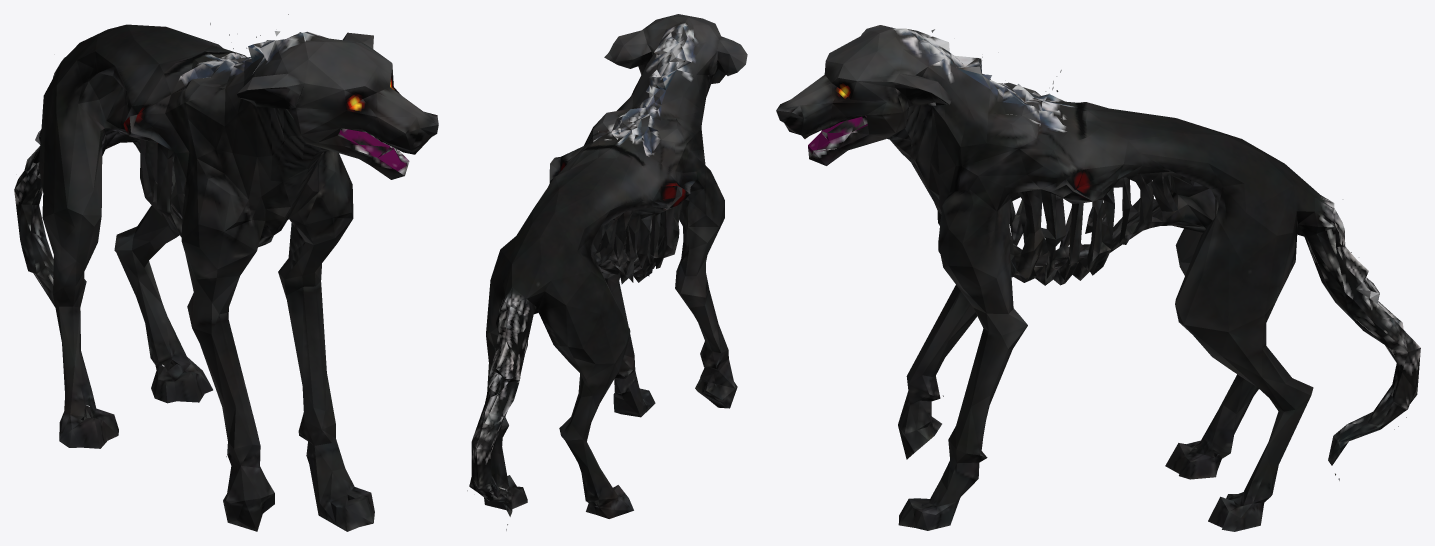
Rendered from hell_hound.gltf.
3 renders of one model, left to right at view 1: azimuth 30°, elevation 25°; view 2: azimuth 150°, elevation 25°; view 3: azimuth 270°, elevation 25°, orthographic. The views are drawn at different scales.
Parts seen in each view (by area): view 1: hell_hound; view 2: hell_hound; view 3: hell_hound.
Part boxes in pixels (x1=…): hell_hound: x1=14, y1=14, x2=438, y2=531; hell_hound: x1=467, y1=14, x2=747, y2=530; hell_hound: x1=776, y1=25, x2=1420, y2=531.
Bounding box in the file's own units: 0.2946 × 0.8227 × 1.
1 material, 1 textured.
